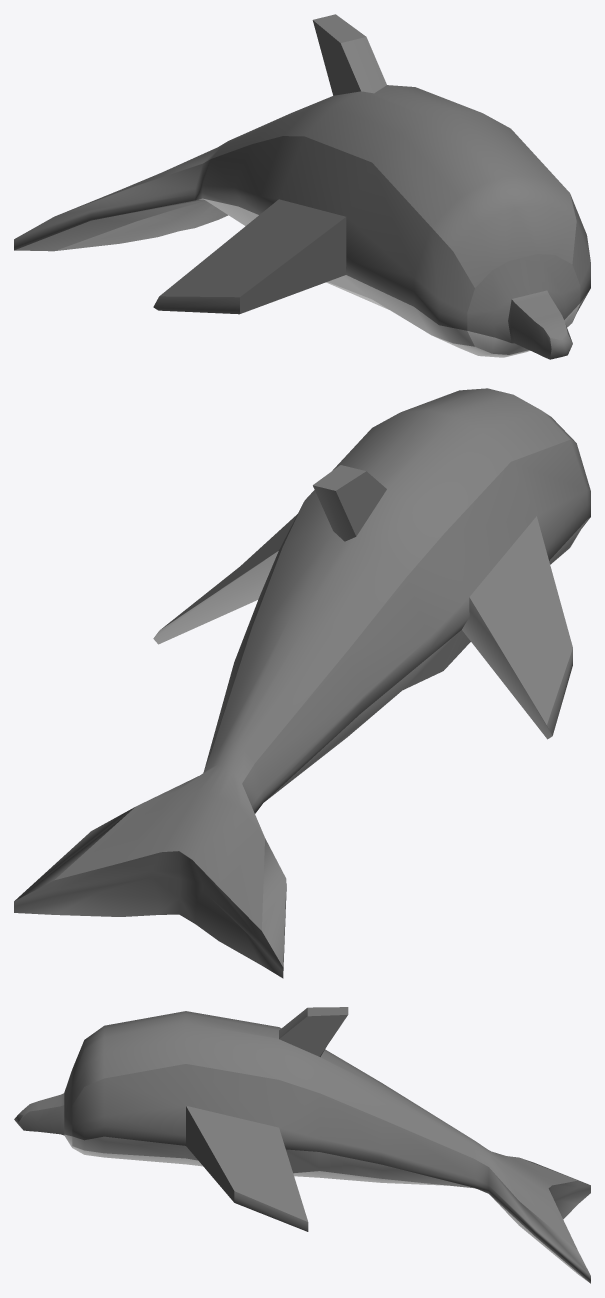
Rendered from dolphin.glb.
3 views of the same model, one above another, from view 1: azimuth 30°, elevation 25°; view 2: azimuth 150°, elevation 25°; view 3: azimuth 270°, elevation 25° (orthographic). The views are drawn at different scales.
Parts seen in each view (by area): view 1: pCylinder1.003; view 2: pCylinder1.003; view 3: pCylinder1.003.
Part boxes in pixels (box(x1,y1,x2,y2)): pCylinder1.003: box(14, 14, 590, 359); pCylinder1.003: box(14, 388, 590, 978); pCylinder1.003: box(14, 1007, 590, 1283).
Size of the model in its own units: 0.8682 by 0.6864 by 1.57.
1 material, 1 textured.
